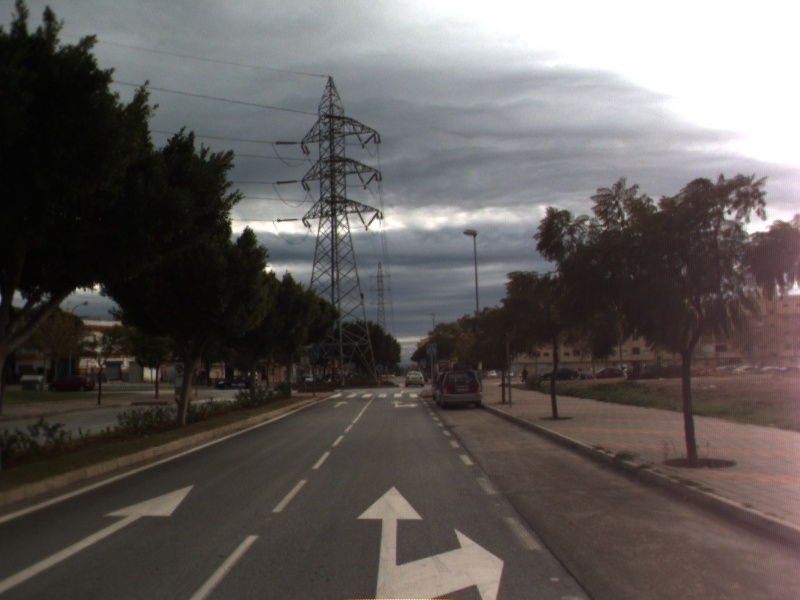STRAIGHT: (1, 483, 196, 594), (331, 399, 350, 410)
STRAIGHT_RIGHT: (353, 483, 506, 600), (389, 398, 420, 410)
